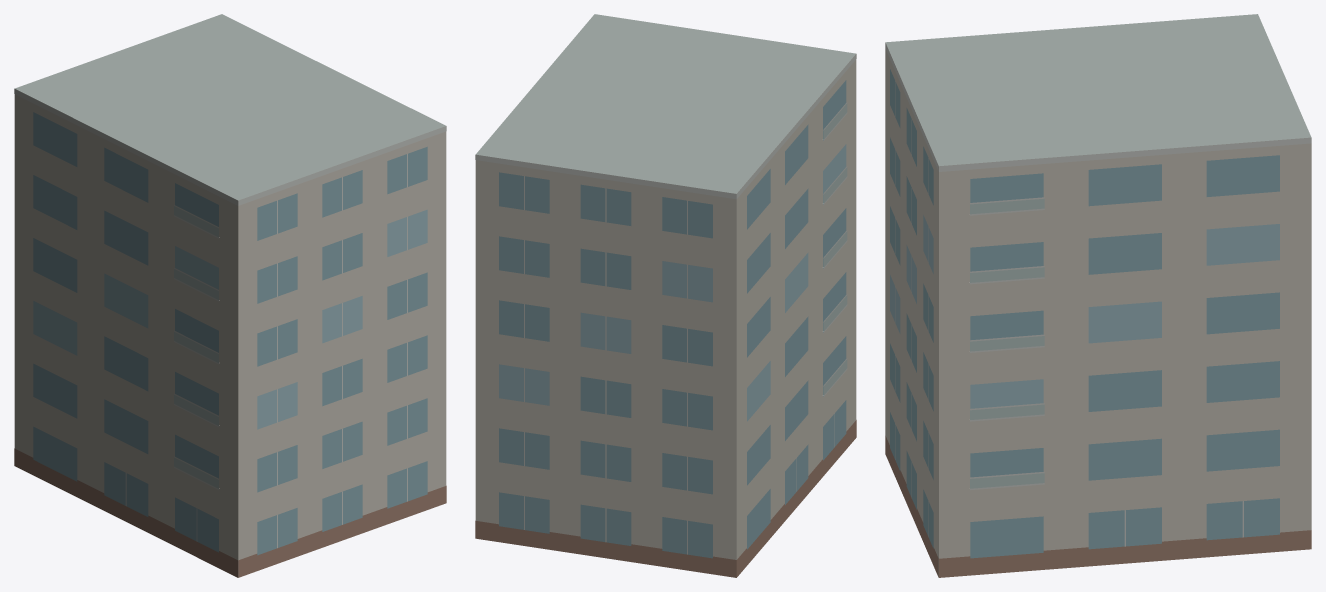
Rendered from survey-upis-33034664.glb.
The picture shows the model from 3 angles, left to right: view 1: azimuth 30°, elevation 25°; view 2: azimuth 150°, elevation 25°; view 3: azimuth 270°, elevation 25°; orthographic projection. The views are drawn at different scales.
Visible parts, largest first — view 1: survey-upis-33034664.tmp; view 2: survey-upis-33034664.tmp; view 3: survey-upis-33034664.tmp.
Boxes of the visible parts, <box> form: survey-upis-33034664.tmp: <box>14,14,446,577</box>; survey-upis-33034664.tmp: <box>475,14,856,577</box>; survey-upis-33034664.tmp: <box>885,14,1311,577</box>.
Bounding box in the file's own units: 13.57 × 17.1 × 16.05.
